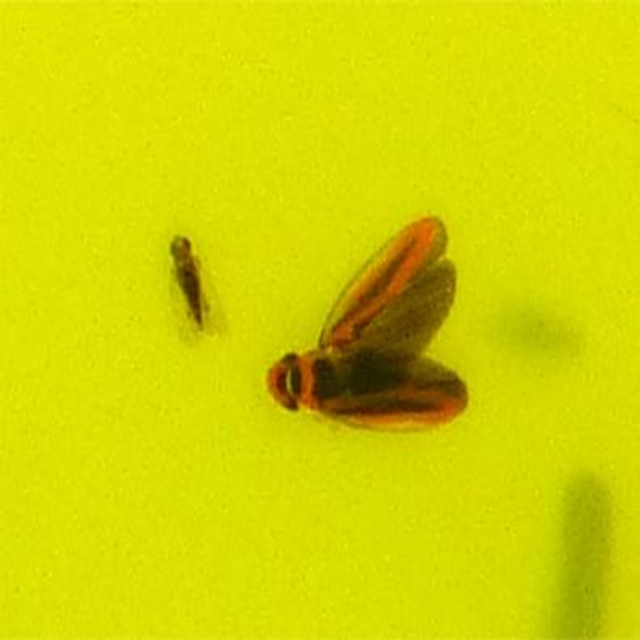Hemiptera: (267, 204, 478, 436), (162, 220, 212, 340)
